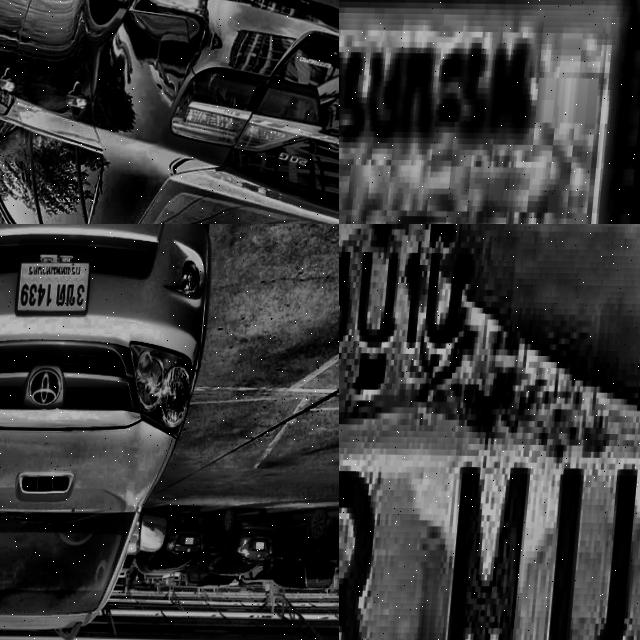license-plate: (339, 224, 640, 640), (339, 0, 640, 224), (15, 251, 93, 316), (190, 530, 203, 547), (261, 535, 273, 551)
